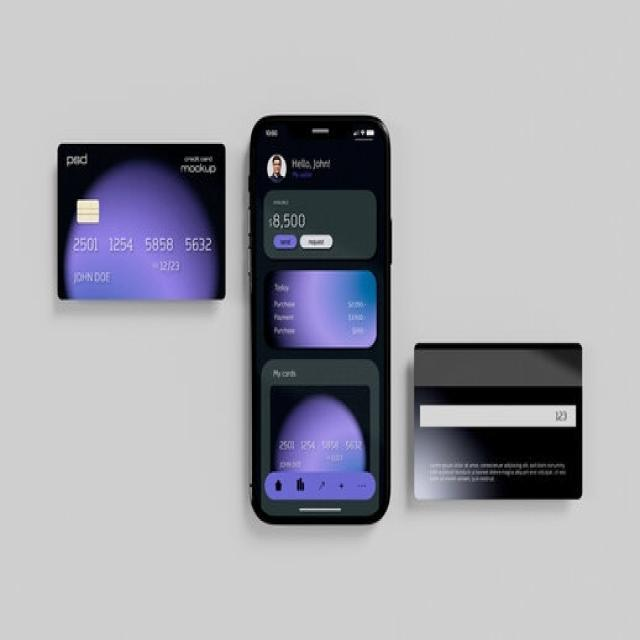payment_card: (411, 341, 583, 501), (55, 141, 226, 301)
